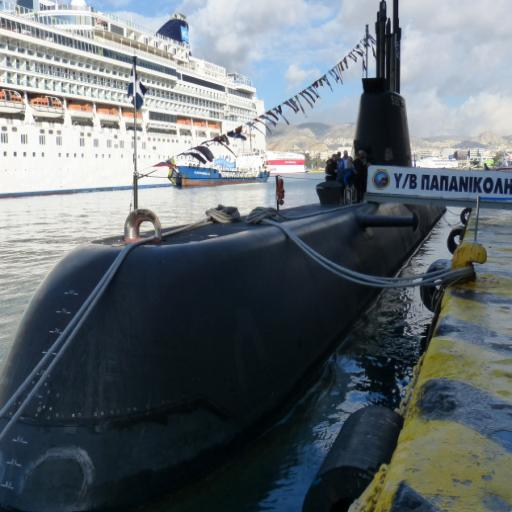submarine: (1, 1, 447, 512)
